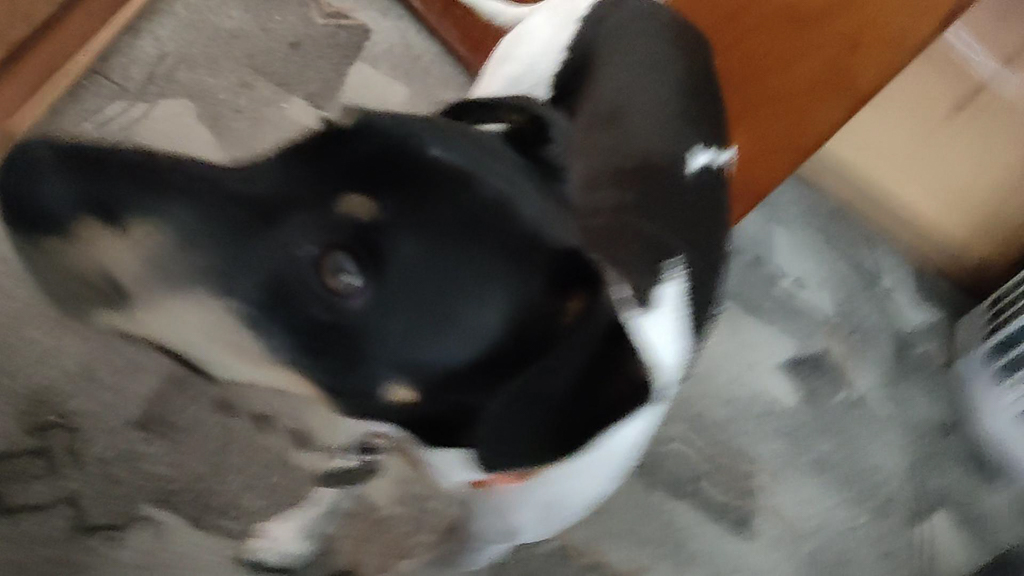Dog: (0, 0, 748, 576)
